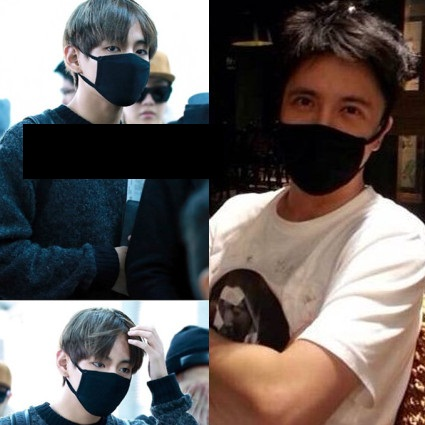face: (123, 66, 167, 128)
face_mask: (277, 51, 377, 190), (83, 20, 148, 100), (77, 337, 132, 416)
